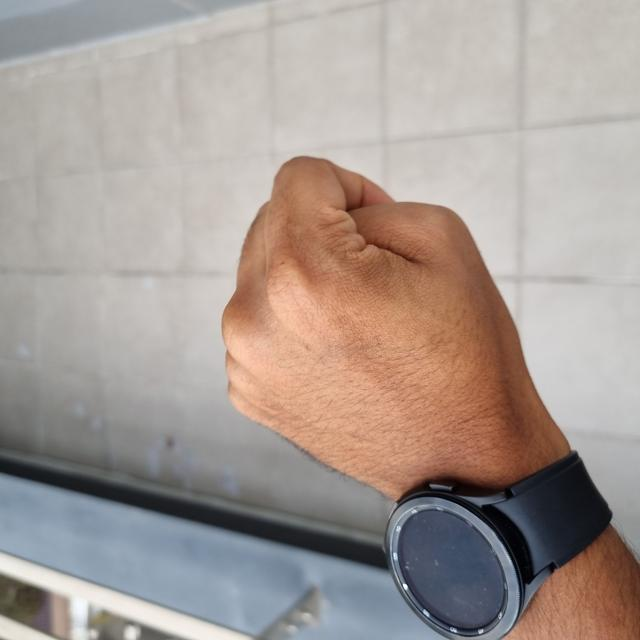Rock: (140, 221, 483, 543)
